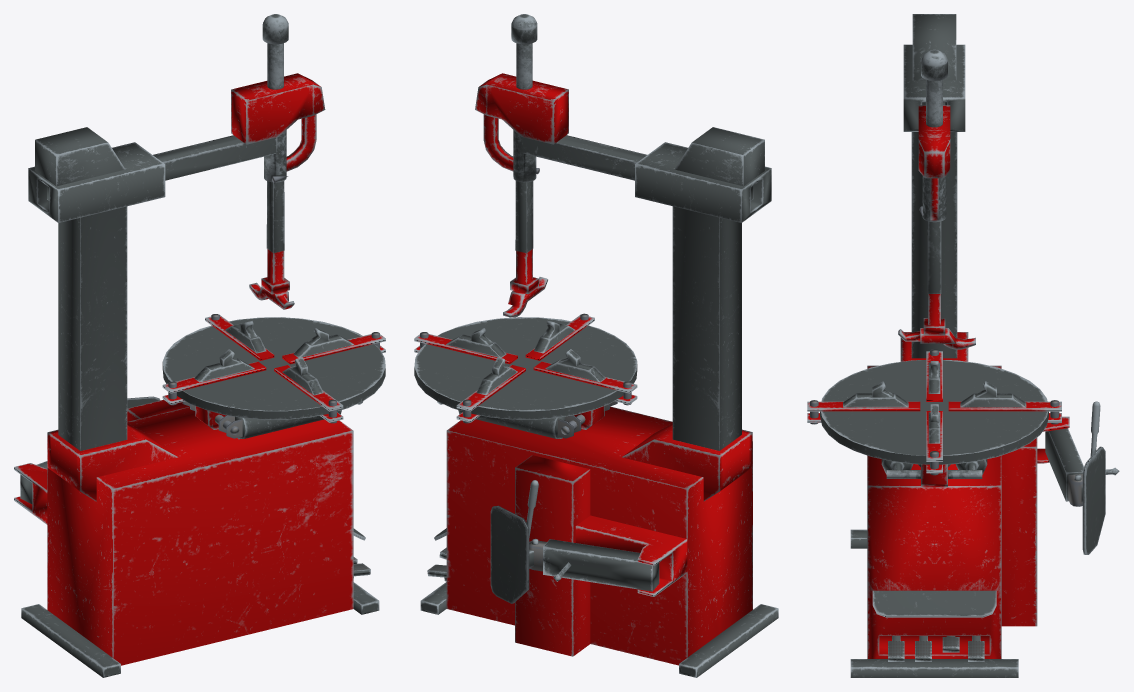
The model's file is CR_Tire_changer1.fbx.
3 renders of one model, left to right at view 1: azimuth 30°, elevation 25°; view 2: azimuth 150°, elevation 25°; view 3: azimuth 270°, elevation 25°, orthographic. The views are drawn at different scales.
Parts seen in each view (by area): view 1: Tire_changer1; view 2: Tire_changer1; view 3: Tire_changer1.
Part boxes in pixels (bbox=[...]): Tire_changer1: bbox=[14, 14, 385, 677]; Tire_changer1: bbox=[414, 14, 778, 677]; Tire_changer1: bbox=[807, 14, 1119, 677].
Size of the model in its own units: 98.06 by 161 by 76.5.
